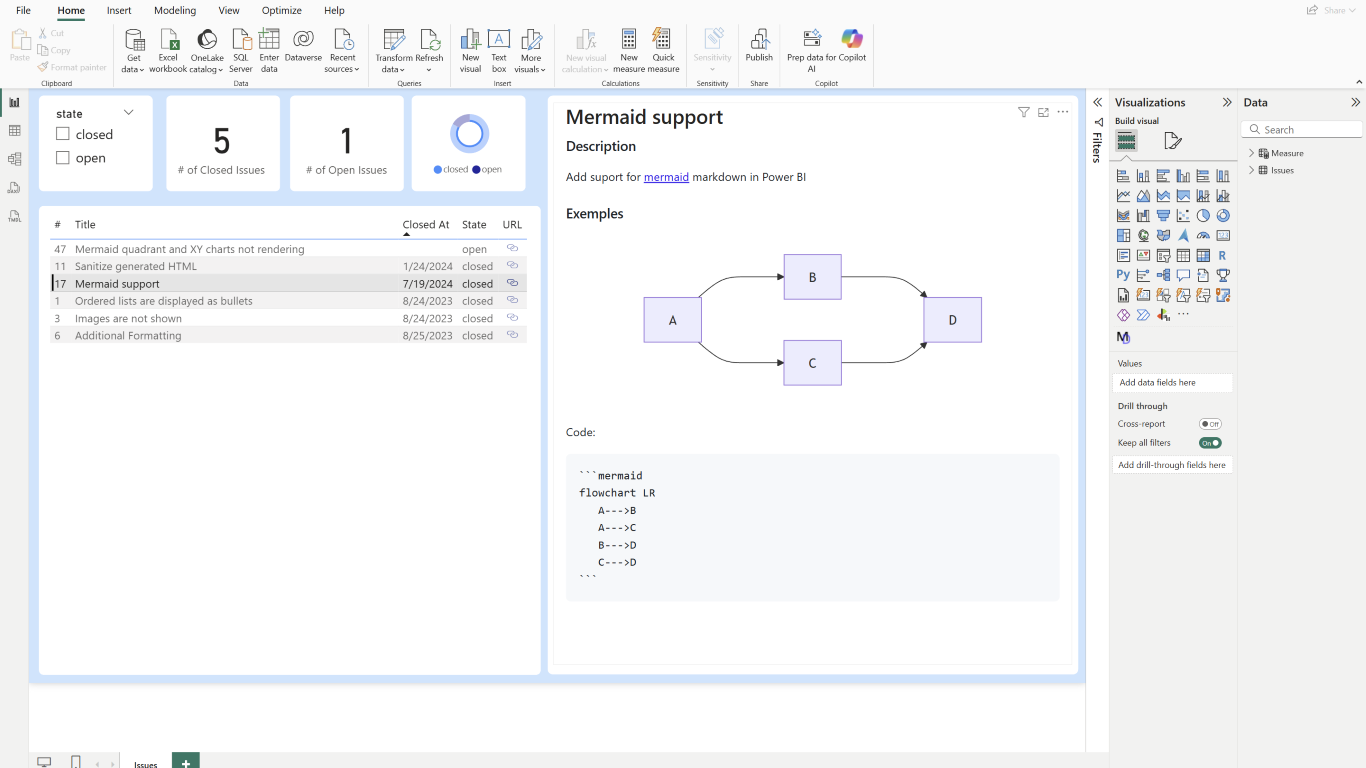

Layout of this report page (visuals, bound fields, positions):
{"tool":"powerbi","page":{"name":"Issues","canvas":[1280,720],"ordinal":0},"visuals":[{"type":"shape","box":[12,142,608,568],"z":0},{"type":"tableEx","fields":{"Values":["Issues.number","Issues.title","Issues.Closed At","Issues.state","Issues.URL"]},"box":[20,149,591,549],"z":1000},{"type":"shape","box":[12,9,138,116],"z":2000},{"type":"slicer","fields":{"Values":["Issues.state"]},"box":[20,17,120,99],"z":3000},{"type":"shape","box":[628,9,643,701],"z":4000},{"type":"markdown094043B111794F2C815A4B97BA2D325B","fields":{"text":["Issues.Selected Measure Body"]},"box":[640,17,623,681],"z":5000},{"type":"shape","box":[166,9,138,116],"z":6000},{"type":"shape","box":[316,9,138,116],"z":7000},{"type":"card","fields":{"Values":["Measure.# of Closed Issues"]},"box":[173,17,119,99],"z":8000},{"type":"card","fields":{"Values":["Measure.# of Open Issues"]},"box":[325,17,119,99],"z":9000}]}

Visuals, with their boxes on the page's 1280x720 design canvas (x1, y1, x2, y2). These are canvas units, not pixel positions in the 1366x768 screenshot, which may show the page scaled, cropped or inside an application window:
shape: 12,142,620,710
tableEx - Issues.number x Issues.title: 20,149,611,698
shape: 12,9,150,125
slicer - Issues.state: 20,17,140,116
shape: 628,9,1271,710
markdown094043B111794F2C815A4B97BA2D325B - Issues.Selected Measure Body: 640,17,1263,698
shape: 166,9,304,125
shape: 316,9,454,125
card - Measure.# of Closed Issues: 173,17,292,116
card - Measure.# of Open Issues: 325,17,444,116
